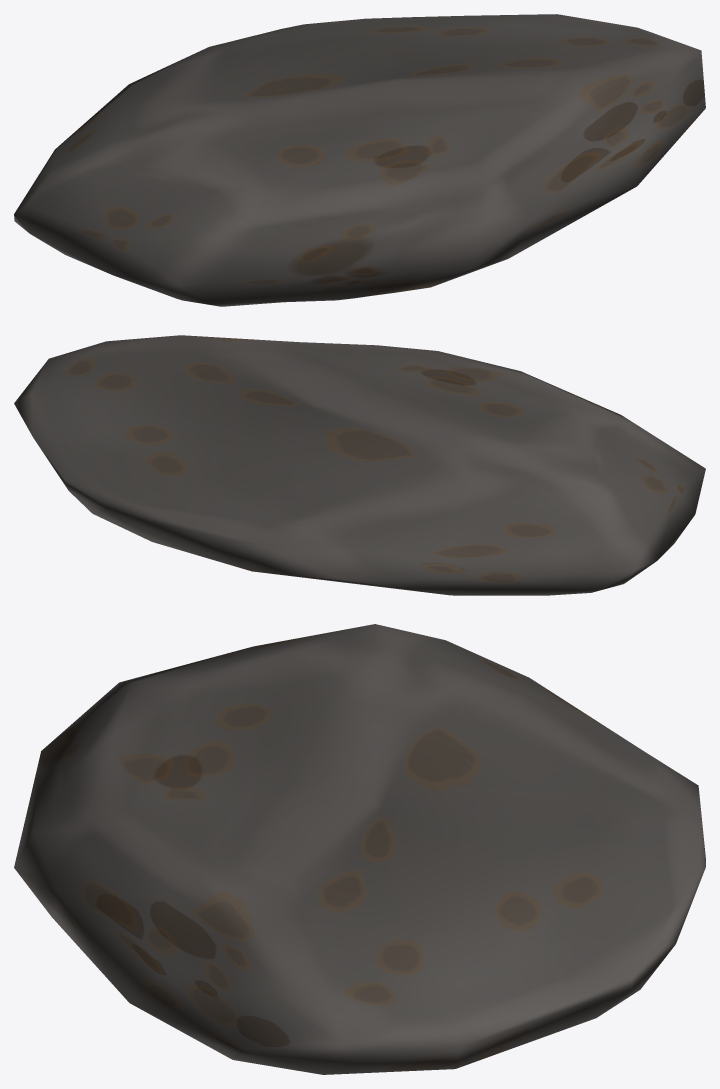
Rendered from Rock Plant 3.FBX.
3 views of the same model, one above another, from view 1: azimuth 30°, elevation 25°; view 2: azimuth 150°, elevation 25°; view 3: azimuth 270°, elevation 25° (orthographic). The views are drawn at different scales.
Visible parts, largest first — view 1: ROCK Plant 3; view 2: ROCK Plant 3; view 3: ROCK Plant 3.
Boxes of the visible parts, bbox=[...] form: ROCK Plant 3: bbox=[14, 14, 705, 306]; ROCK Plant 3: bbox=[14, 335, 705, 595]; ROCK Plant 3: bbox=[14, 624, 705, 1074].
Size of the model in its own units: 38.21 by 6.84 by 26.23.
